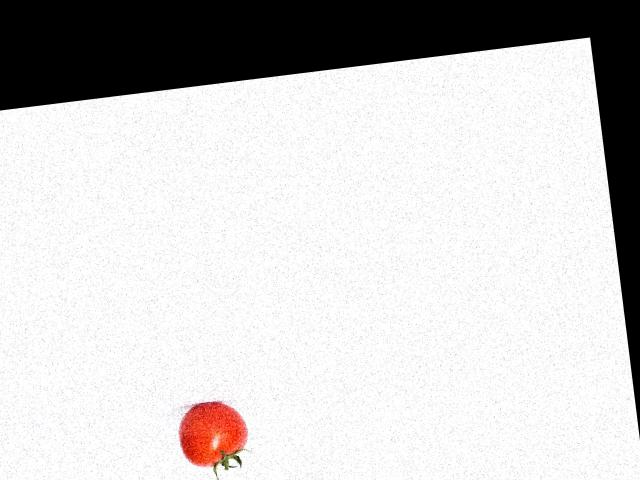tomato: (174, 399, 250, 470)
